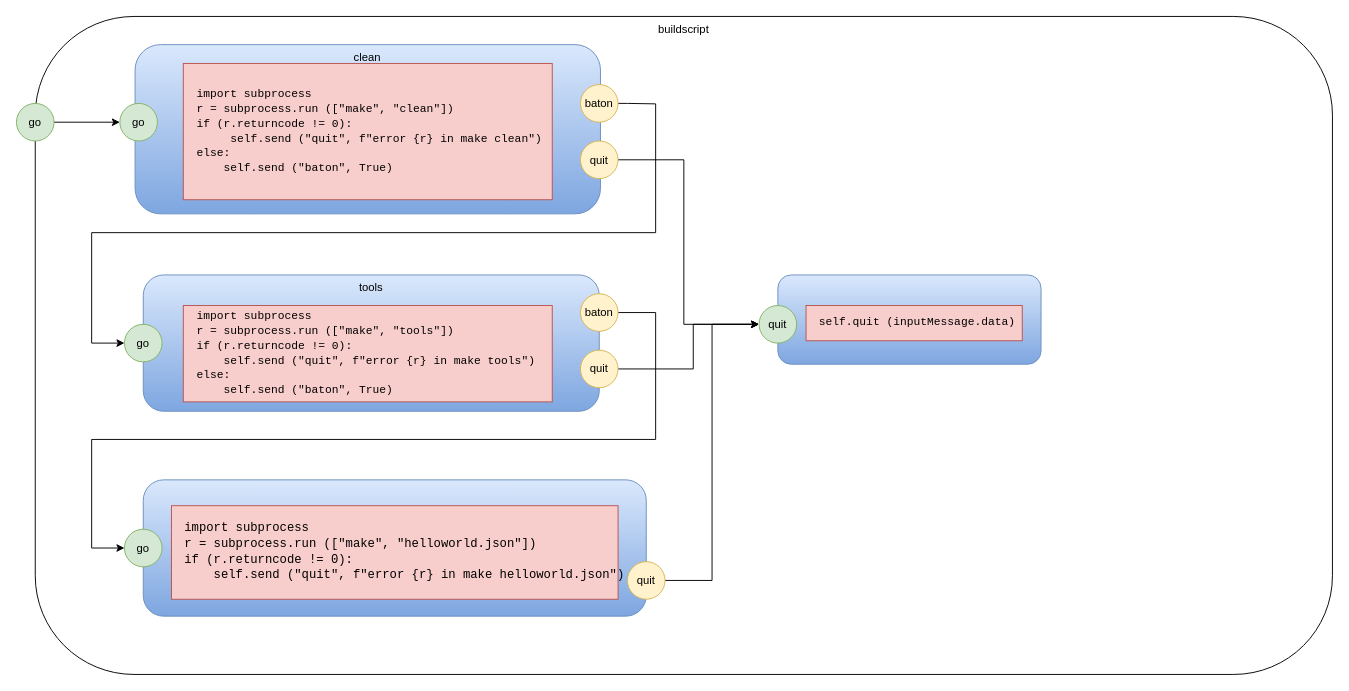
This 1349x691 diagram has some shape labels left out. The box of each missing label's shape, as (x1, y1, x2, y2) in pixels:
abort: (777, 274, 1041, 364)
build: (142, 479, 646, 616)
